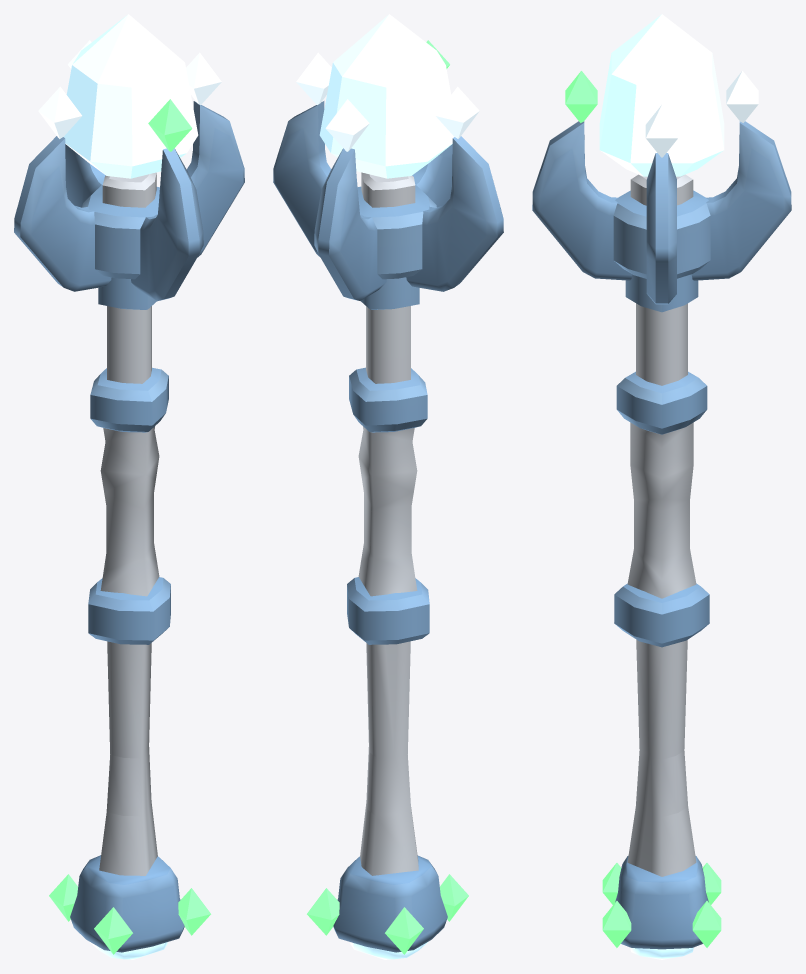
Rendered from staff_ice_uncommon.glb.
The picture shows the model from 3 angles, left to right: view 1: azimuth 30°, elevation 25°; view 2: azimuth 150°, elevation 25°; view 3: azimuth 270°, elevation 25°; orthographic projection.
Parts seen in each view (by area): view 1: staff_ice_uncommon; view 2: staff_ice_uncommon; view 3: staff_ice_uncommon.
Boxes of the visible parts, bbox=[...] form: staff_ice_uncommon: bbox=[14, 14, 244, 959]; staff_ice_uncommon: bbox=[273, 14, 503, 959]; staff_ice_uncommon: bbox=[532, 14, 791, 959].
Bounding box in the file's own units: 50.85 × 204 × 50.85.
Materials: 5 (2 with a texture image).
